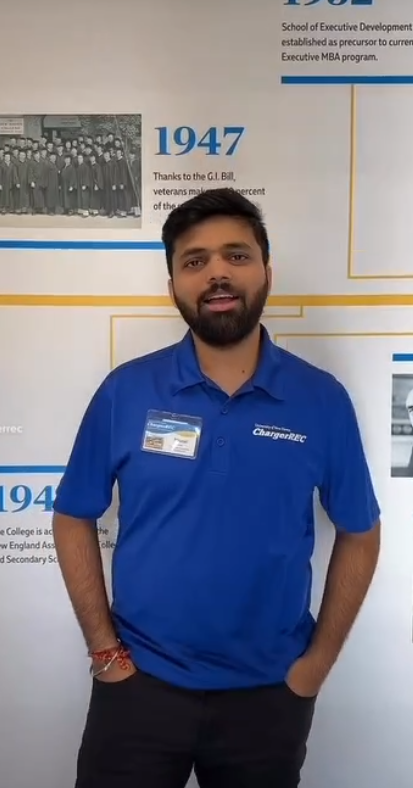Staff: (106, 182, 361, 496)
